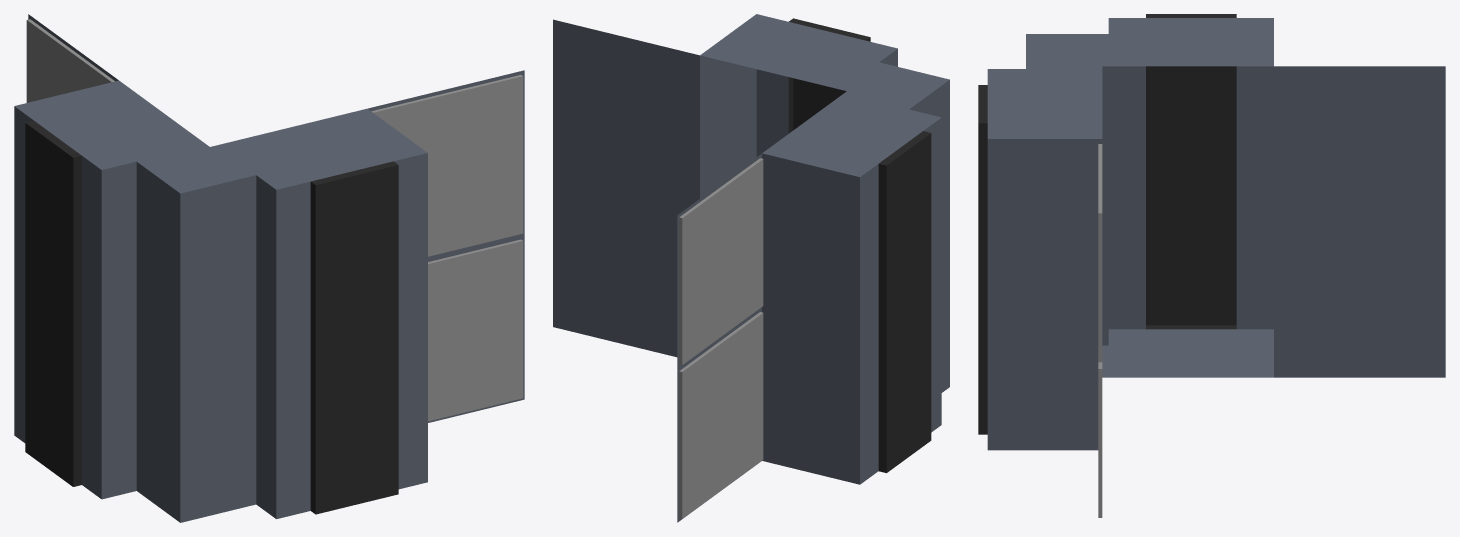
Rendered from Wall_19_Corner.FBX.
3 views of the same model, side by side, from view 1: azimuth 30°, elevation 25°; view 2: azimuth 150°, elevation 25°; view 3: azimuth 270°, elevation 25° (orthographic). The views are drawn at different scales.
Parts seen in each view (by area): view 1: Wall_19_Corner_LOD0; view 2: Wall_19_Corner_LOD0; view 3: Wall_19_Corner_LOD0.
Boxes of the visible parts, x1,y1,x2,y2 form: Wall_19_Corner_LOD0: (14, 14, 524, 522); Wall_19_Corner_LOD0: (553, 14, 949, 522); Wall_19_Corner_LOD0: (978, 14, 1445, 517).
Size of what is drawn, in the model's own units: 245 by 180 by 245.
